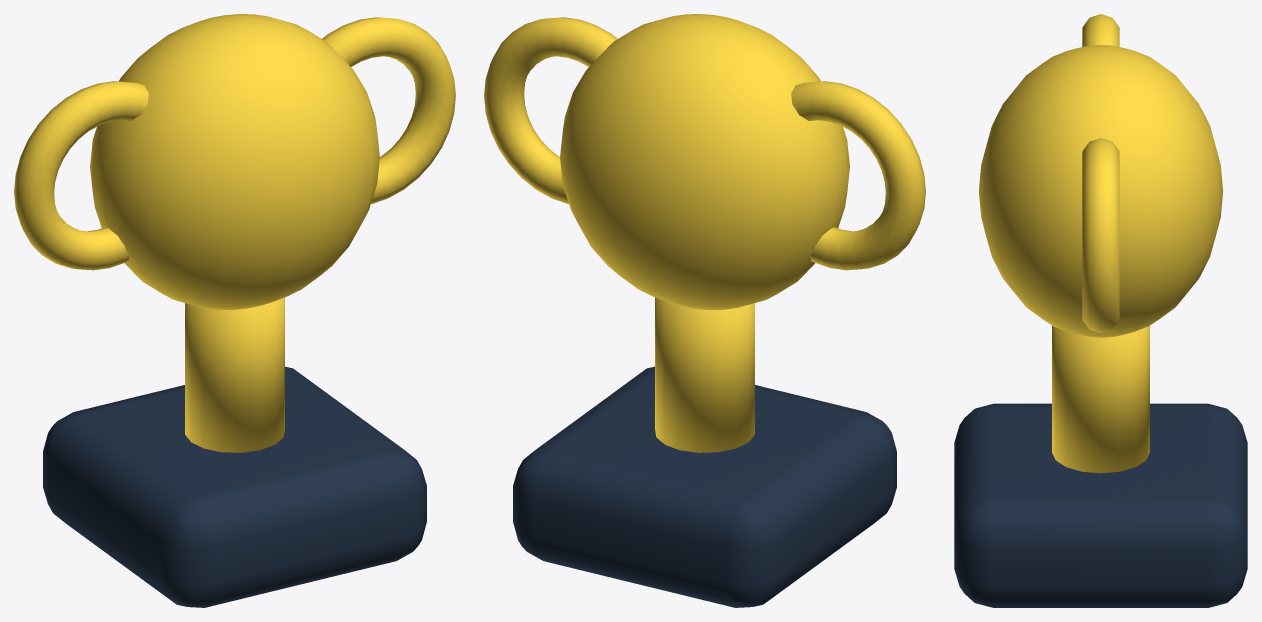
Rendered from Championship_trophy.glb.
The picture shows the model from 3 angles, left to right: view 1: azimuth 30°, elevation 25°; view 2: azimuth 150°, elevation 25°; view 3: azimuth 270°, elevation 25°; orthographic projection. The views are drawn at different scales.
Parts seen in each view (by area): view 1: Cup, Plinth, Stem, Handle, Handle.001; view 2: Cup, Plinth, Stem, Handle, Handle.001; view 3: Plinth, Cup, Stem, Handle.001, Handle.
Boxes of the visible parts, x1=… form: Cup: x1=90, y1=14, x2=379, y2=310; Plinth: x1=43, y1=366, x2=426, y2=607; Stem: x1=185, y1=297, x2=284, y2=452; Handle: x1=14, y1=81, x2=148, y2=270; Handle.001: x1=322, y1=17, x2=455, y2=203; Cup: x1=560, y1=14, x2=849, y2=310; Plinth: x1=513, y1=366, x2=896, y2=607; Stem: x1=655, y1=297, x2=754, y2=452; Handle: x1=791, y1=81, x2=925, y2=270; Handle.001: x1=484, y1=17, x2=617, y2=203; Plinth: x1=954, y1=403, x2=1247, y2=607; Cup: x1=978, y1=45, x2=1223, y2=337; Stem: x1=1052, y1=326, x2=1149, y2=473; Handle.001: x1=1082, y1=138, x2=1119, y2=332; Handle: x1=1082, y1=14, x2=1119, y2=46.
Bounding box in the file's own units: 1 × 1.13 × 0.6.
